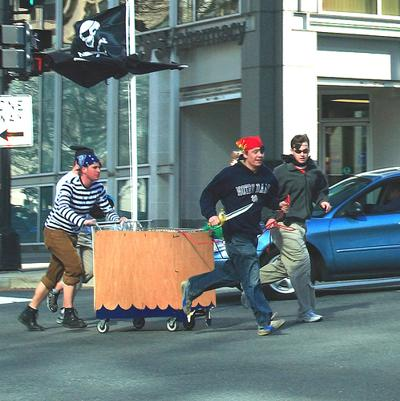person: (18, 147, 129, 333)
